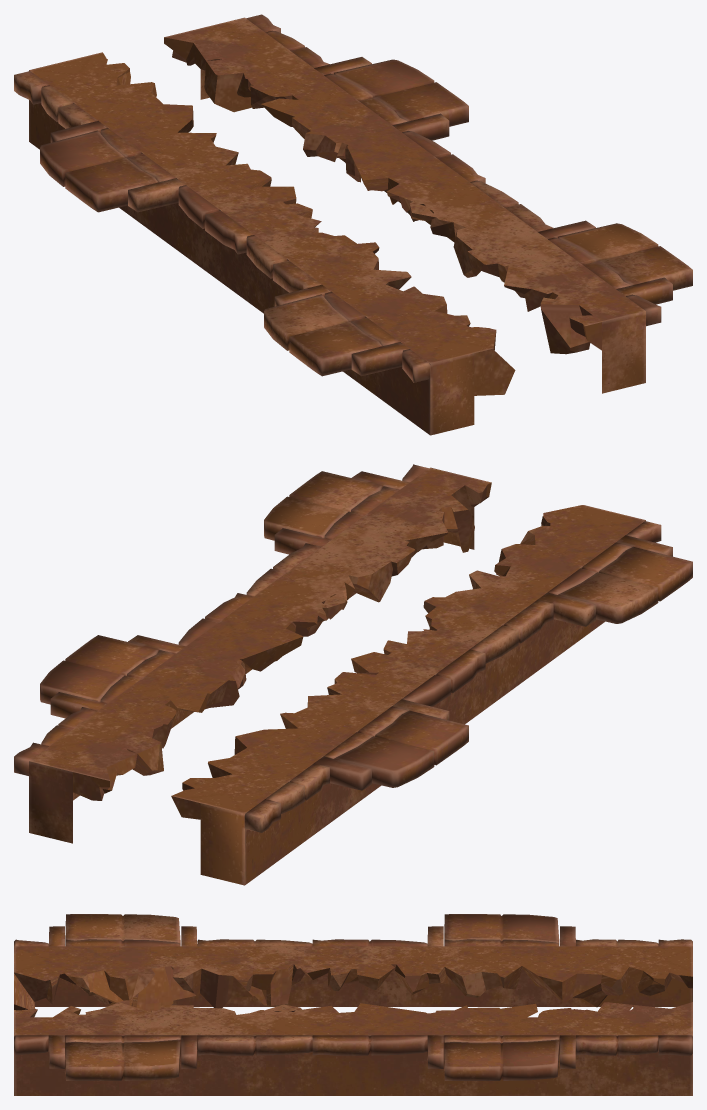
The model's file is Broken Blocks 3.fbx.
The picture shows the model from 3 angles, top to bottom: view 1: azimuth 30°, elevation 25°; view 2: azimuth 150°, elevation 25°; view 3: azimuth 270°, elevation 25°; orthographic projection. The views are drawn at different scales.
Parts seen in each view (by area): view 1: N Block 1; view 2: N Block 1; view 3: N Block 1.
Boxes of the visible parts, x1,y1,x2,y2 form: N Block 1: [14, 14, 692, 435]; N Block 1: [14, 464, 692, 885]; N Block 1: [14, 914, 692, 1095].
Size of the model in its own units: 6.35 by 1.17 by 11.86.
